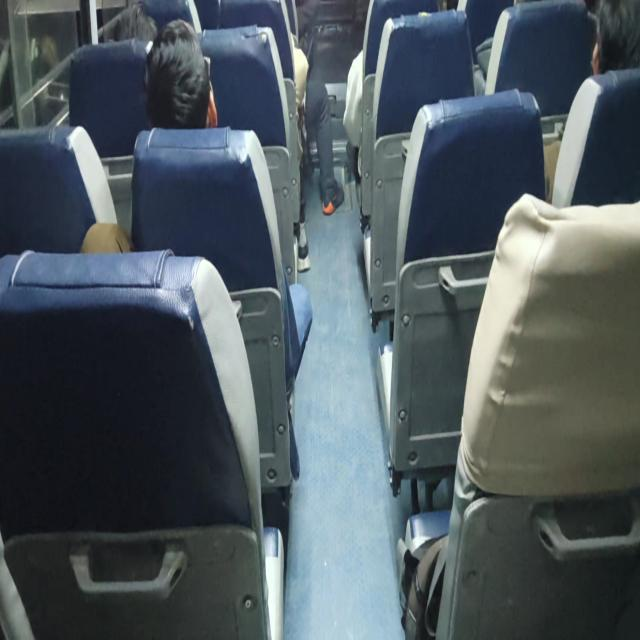person: (161, 24, 228, 135), (579, 0, 640, 83), (99, 0, 153, 47)
